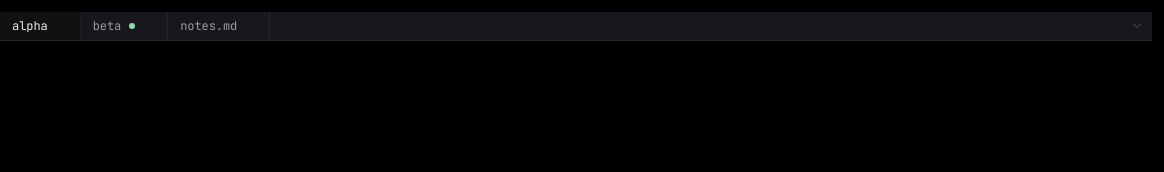
Test case: TabBar › closes the dropdown after a pick
Step 1. Click the button named "all tabs" → (1137, 26), box [1122,12,1152,40]
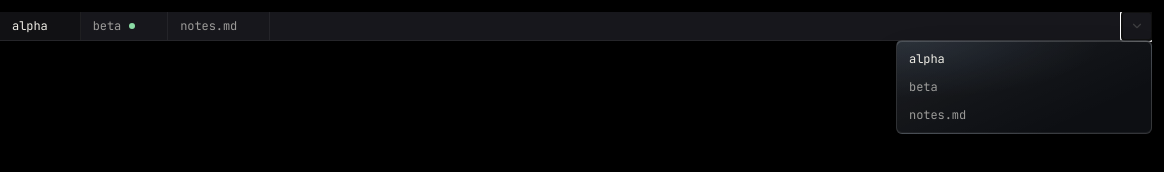
Step 2. Click the menu item "alpha" → (1024, 59), box [897,45,1151,73]
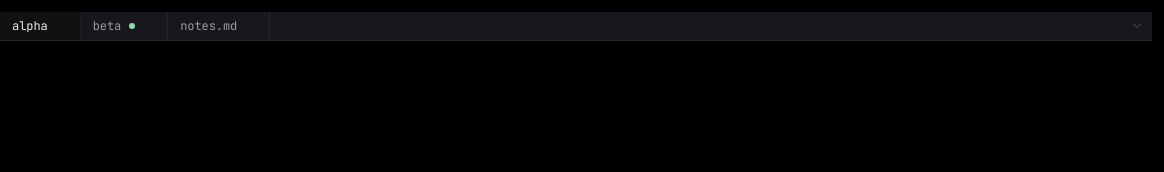
expect the menu item is gone: met
